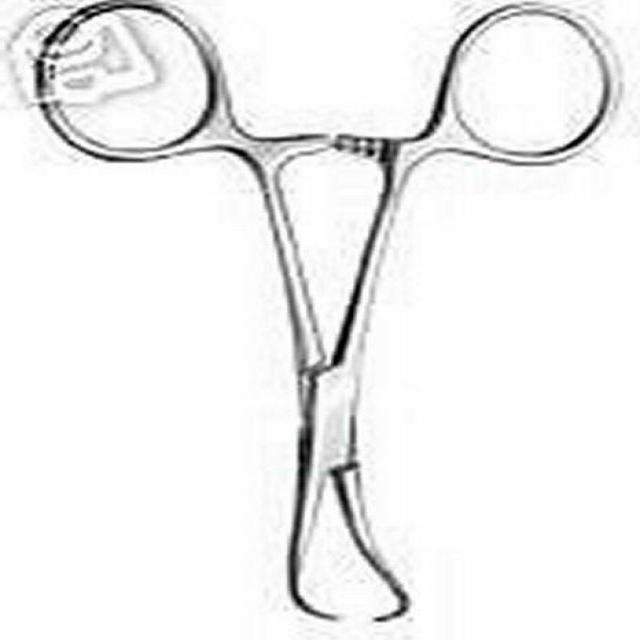Towel_clip: (29, 1, 624, 624)
